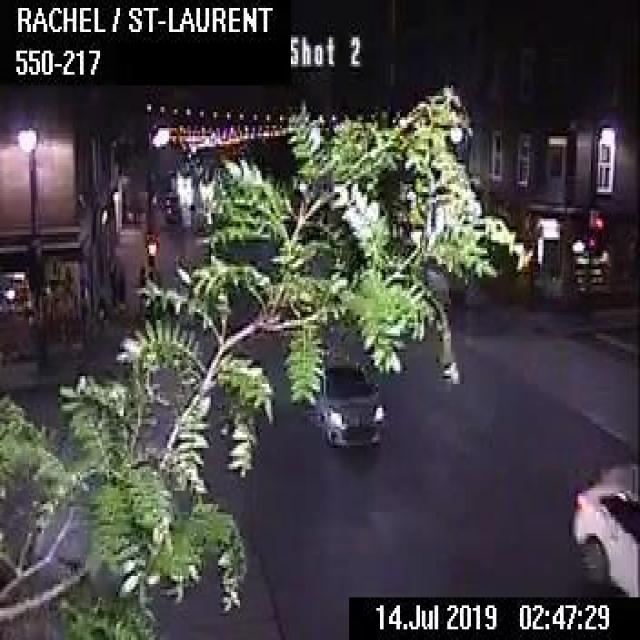pedestrian: (109, 258, 118, 314), (116, 264, 125, 308)
vehicle: (567, 456, 638, 592), (306, 358, 388, 446)
